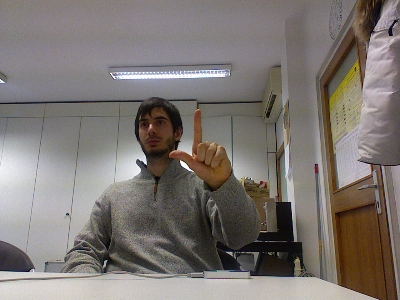枪: (167, 107, 231, 186)
